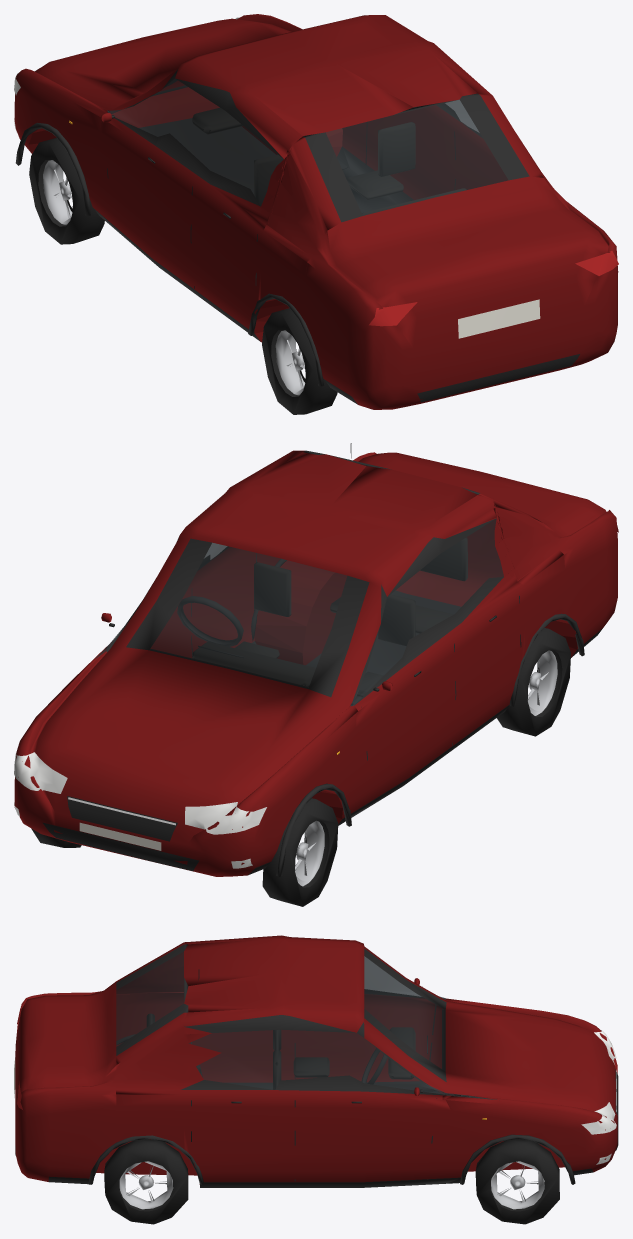
Rendered from hatch_3_lo.glb.
The picture shows the model from 3 angles, top to bottom: view 1: azimuth 30°, elevation 25°; view 2: azimuth 150°, elevation 25°; view 3: azimuth 270°, elevation 25°; orthographic projection. The views are drawn at different scales.
Visible parts, largest first — view 1: body, wheel_0, wheel_2; view 2: body, wheel_0, wheel_2; view 3: body, wheel_3, wheel_1.
Boxes of the visible parts, bbox=[...] form: body: bbox=[14, 14, 618, 409]; wheel_0: bbox=[29, 137, 104, 244]; wheel_2: bbox=[262, 308, 337, 414]; body: bbox=[14, 443, 618, 876]; wheel_0: bbox=[262, 798, 338, 906]; wheel_2: bbox=[497, 628, 570, 736]; body: bbox=[14, 935, 618, 1187]; wheel_3: bbox=[104, 1139, 188, 1224]; wheel_1: bbox=[475, 1139, 559, 1224].
Size of the model in its own units: 1.78 by 1.61 by 4.02.
